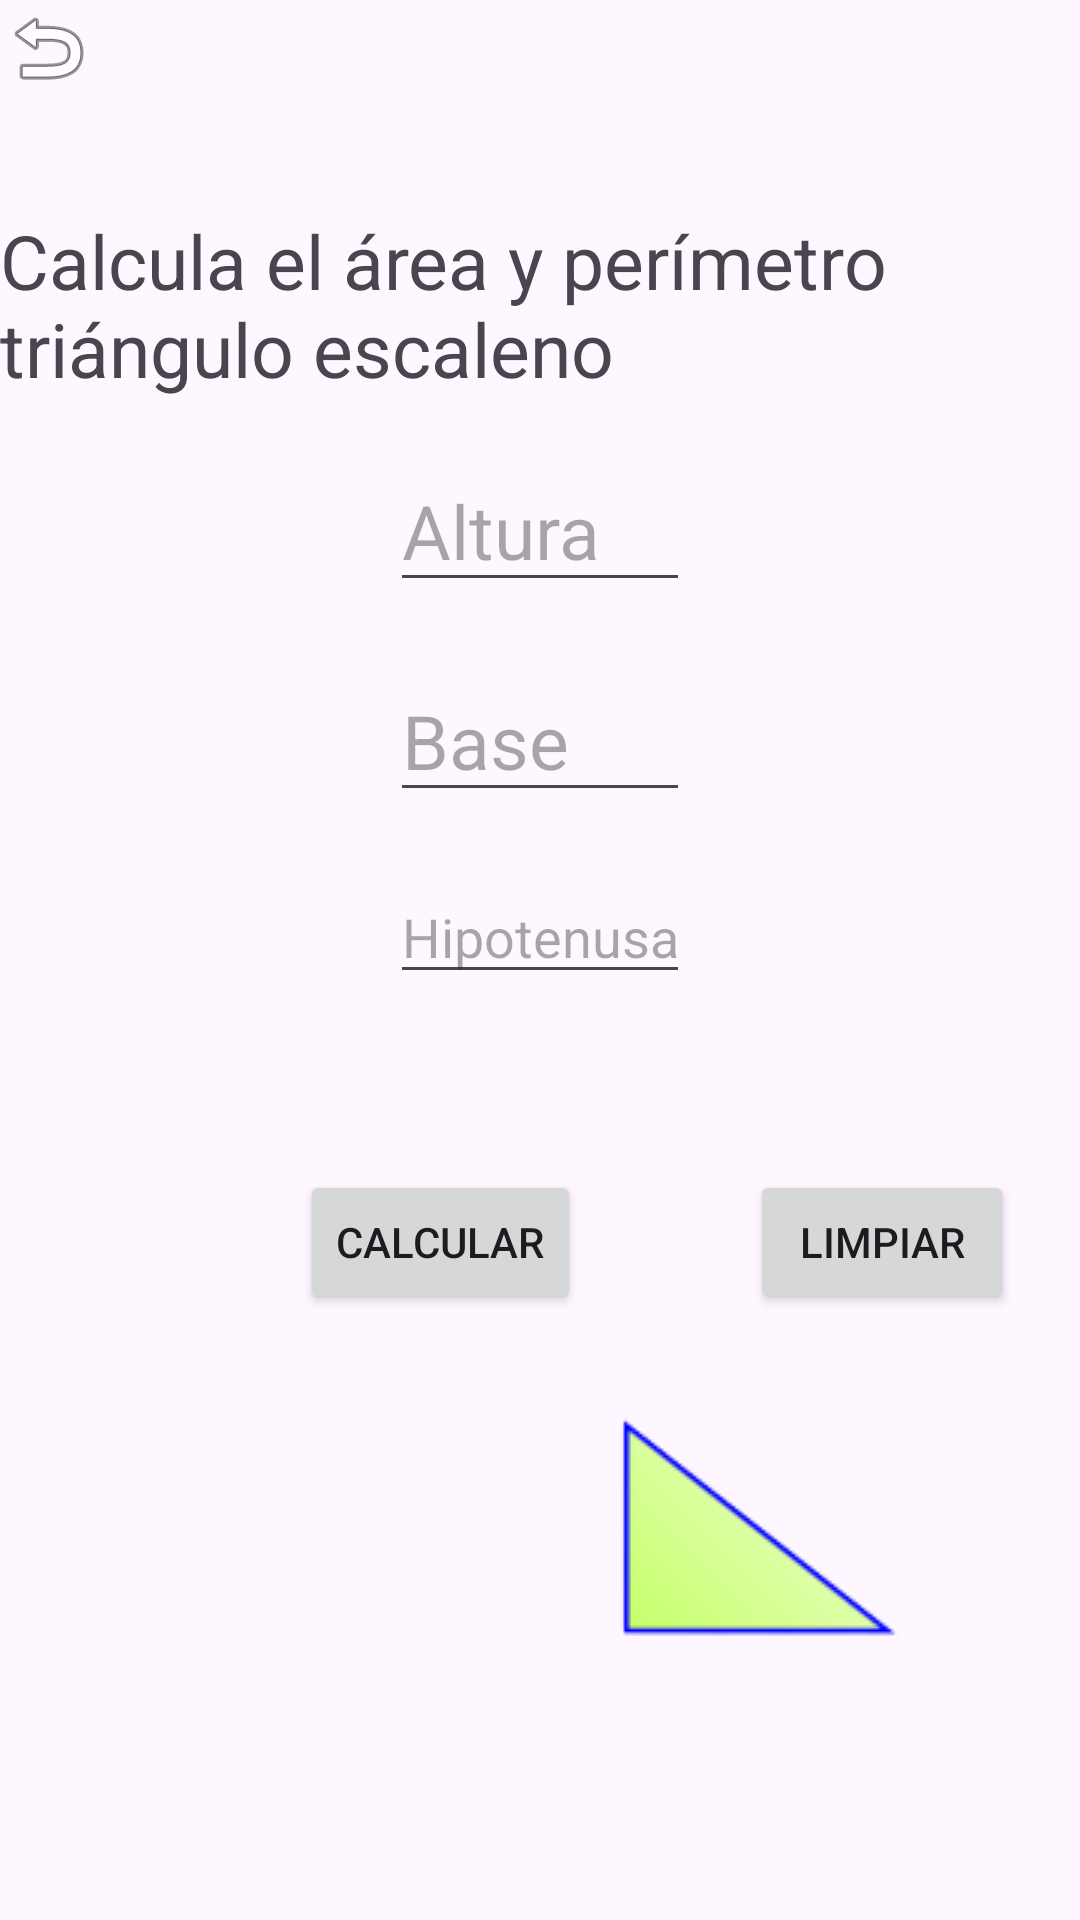

Named icons in this screenshot (1080w x 1920h) and their bounding boxes, [left=x1, top=y1, right=x2, bottom=y2]:
revert: [left=15, top=17, right=84, bottom=80]
